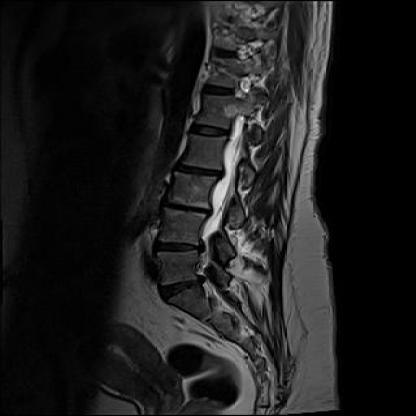Degenerative Disc Diseaserotation: (157, 276, 203, 298), (166, 199, 210, 220), (174, 163, 226, 178)
Disc Herniationrotation: (176, 161, 224, 181), (165, 201, 211, 217), (157, 239, 201, 255)
